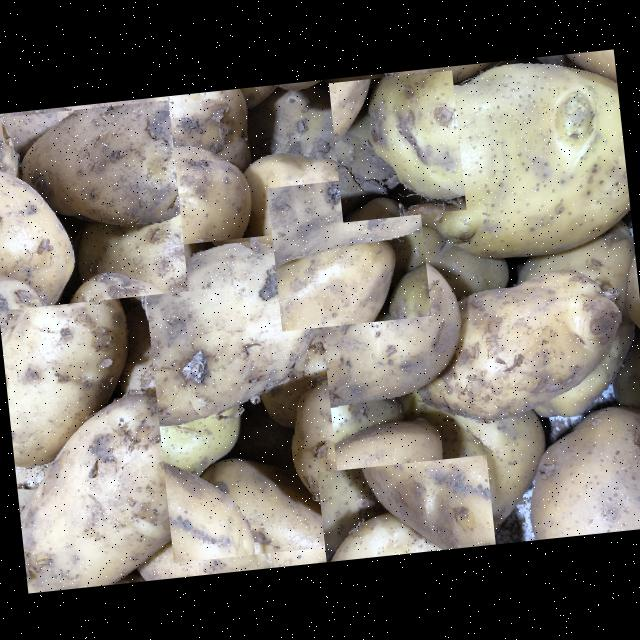Diseased-fungal potato: (140, 229, 343, 562), (0, 98, 187, 309), (315, 453, 502, 640), (0, 320, 149, 548), (110, 479, 300, 640), (95, 81, 314, 219), (266, 171, 430, 330), (327, 69, 465, 221), (31, 591, 153, 640)
